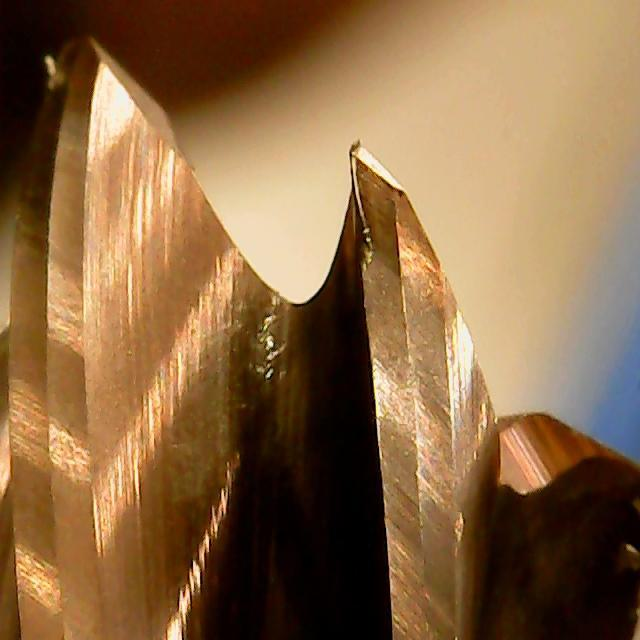Tool-wear-class-1: (340, 138, 461, 439)
